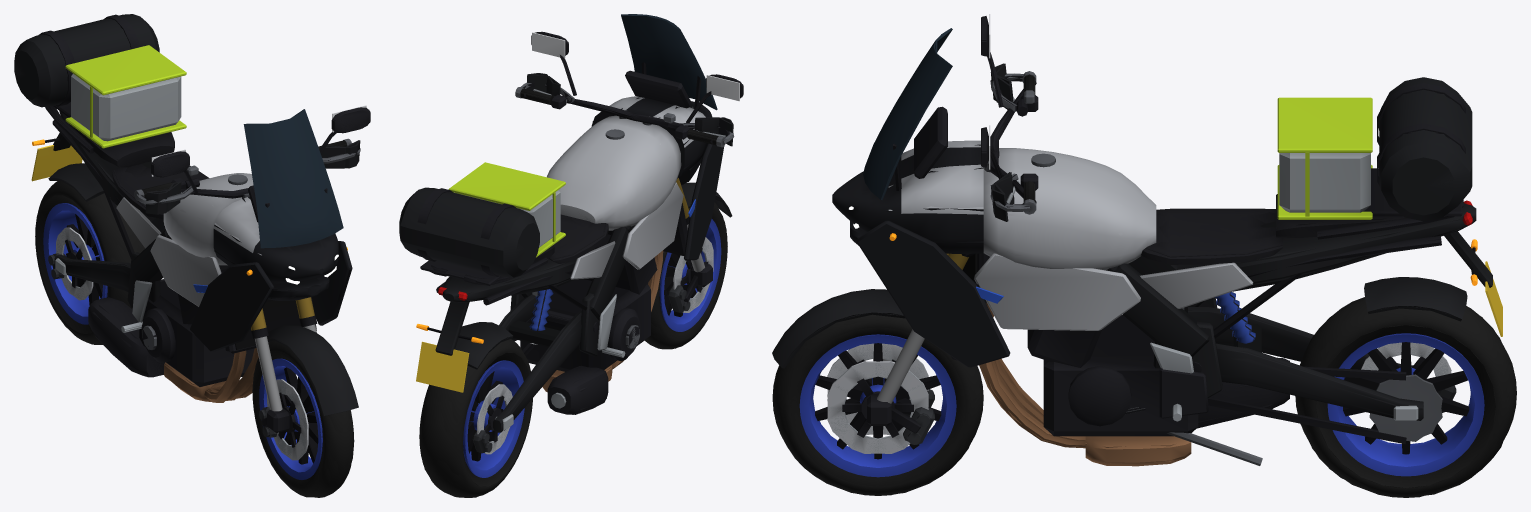
Rendered from bike12_tracer9gt.glb.
3 renders of one model, left to right at view 1: azimuth 30°, elevation 25°; view 2: azimuth 150°, elevation 25°; view 3: azimuth 270°, elevation 25°, orthographic. The views are drawn at different scales.
Parts seen in each view (by area): view 1: body (×2), wheel_front (×2), wheel_rear (×2), handlebar (×2), disc_front (×2), fork_right, disc_rear (×2), fork_left; view 2: body (×2), wheel_rear (×2), handlebar (×2), wheel_front (×2), disc_rear (×2), disc_front (×2), fork_right; view 3: body (×2), wheel_rear (×2), wheel_front (×2), disc_front (×2), handlebar (×2), fork_left, disc_rear.
Boxes of the visible parts, x1,y1,x2,y2 form: body (×2): (14, 14, 358, 415); wheel_front (×2): (252, 340, 354, 497); wheel_rear (×2): (35, 181, 145, 344); handlebar (×2): (134, 105, 370, 214); disc_front (×2): (267, 379, 308, 460); fork_right: (251, 308, 289, 437); disc_rear (×2): (56, 227, 93, 300); fork_left: (295, 297, 317, 332); body (×2): (399, 14, 732, 453); wheel_rear (×2): (419, 339, 532, 497); handlebar (×2): (515, 31, 743, 147); wheel_front (×2): (645, 202, 727, 349); disc_rear (×2): (477, 384, 512, 454); disc_front (×2): (673, 237, 713, 312); fork_right: (667, 178, 712, 312); body (×2): (772, 28, 1502, 466); wheel_rear (×2): (1295, 297, 1516, 497); wheel_front (×2): (772, 314, 983, 495); disc_front (×2): (827, 343, 928, 453); handlebar (×2): (981, 14, 1038, 221); fork_left: (867, 253, 968, 444); disc_rear: (1361, 342, 1451, 376).
Bounding box in the file's own units: 0.905 × 1.4 × 2.12.
